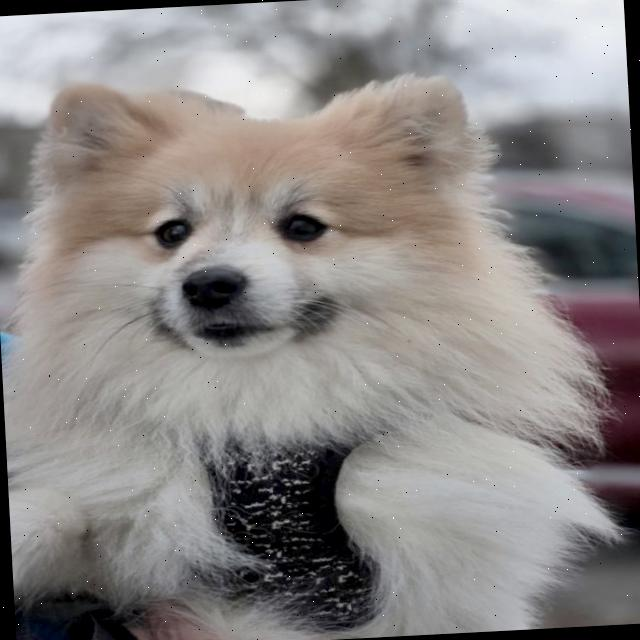pomeranian_dog: (5, 43, 525, 450)
